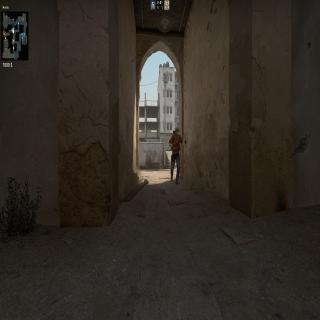T-Head: (173, 125, 181, 138)
